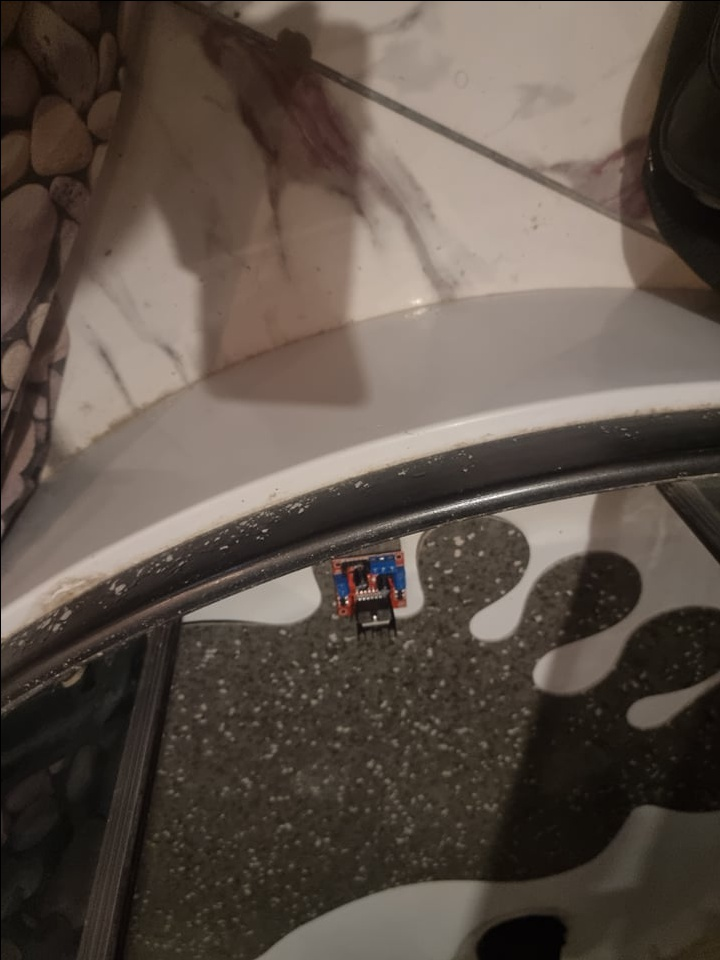MOTOR: (329, 549, 407, 641)
